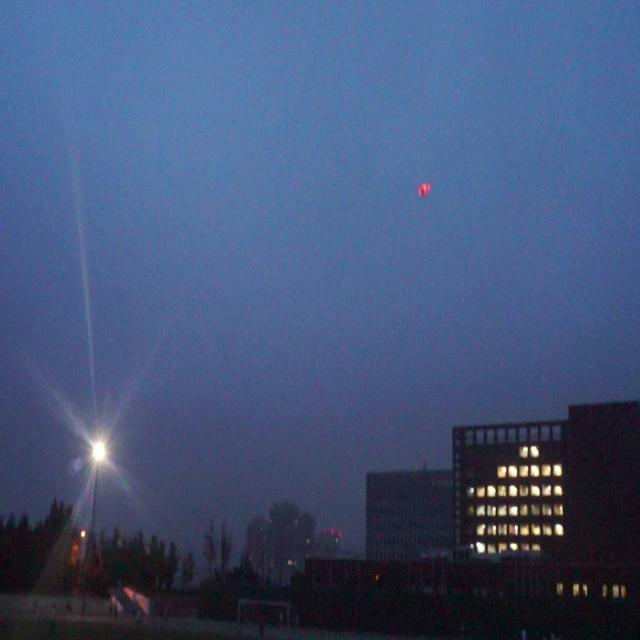drone: (417, 180, 434, 200)
